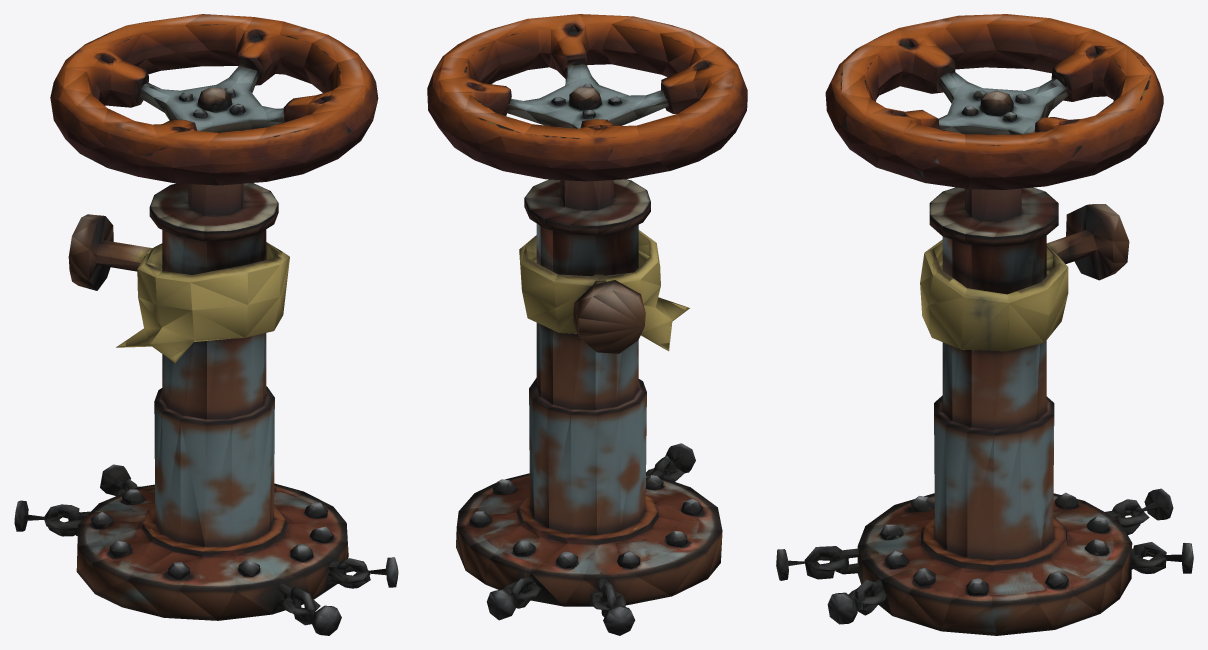
Rendered from steering_wheel.glb.
The picture shows the model from 3 angles, left to right: view 1: azimuth 30°, elevation 25°; view 2: azimuth 150°, elevation 25°; view 3: azimuth 270°, elevation 25°; orthographic projection. The views are drawn at different scales.
Parts seen in each view (by area): view 1: tripo_node_fff004ab; view 2: tripo_node_fff004ab; view 3: tripo_node_fff004ab.
Part boxes in pixels (box(x1,y1,x2,y2)): tripo_node_fff004ab: box(14, 14, 398, 635); tripo_node_fff004ab: box(427, 14, 747, 635); tripo_node_fff004ab: box(776, 14, 1193, 635).
Bounding box in the file's own units: 0.6161 × 0.9988 × 0.7598.
Materials: 1 (1 with a texture image).
